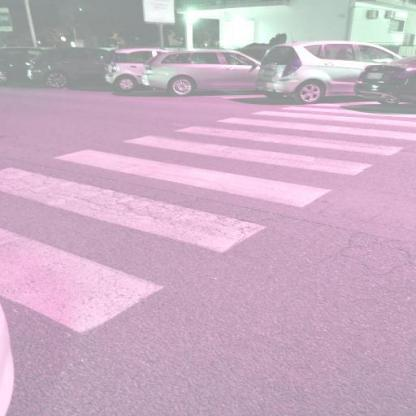crosswalk: (0, 144, 336, 260)
